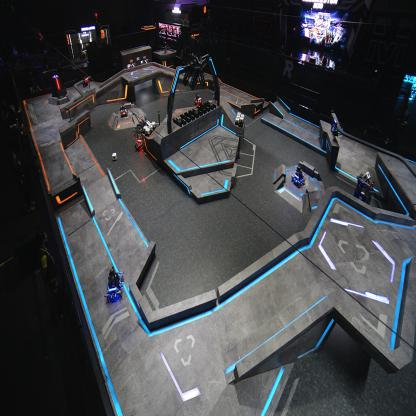car: (350, 172, 373, 214), (103, 267, 125, 301), (133, 122, 147, 151), (292, 164, 306, 186), (193, 92, 203, 106), (120, 102, 127, 116)
